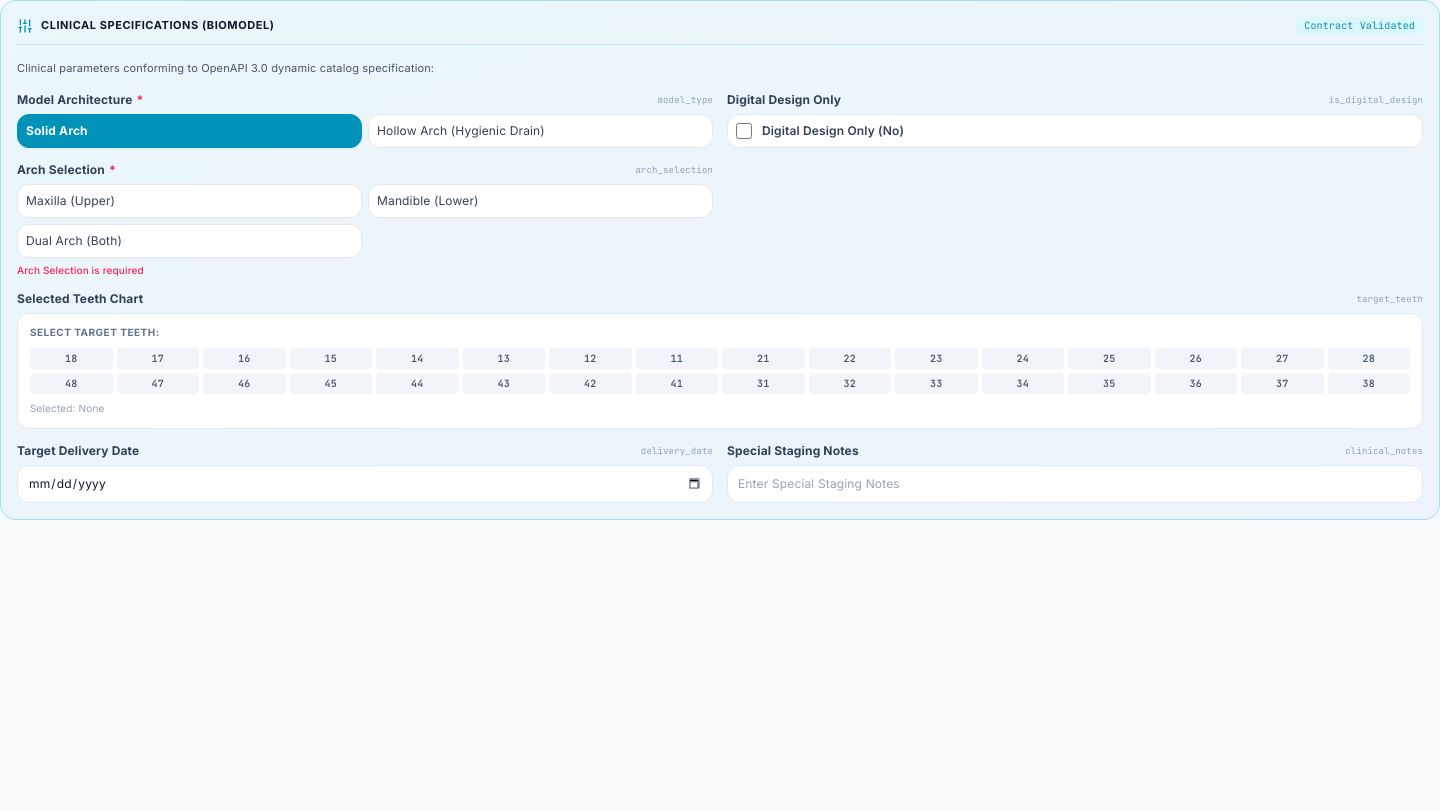
Test: FE-FORM-001: Typed Dynamic Catalog Form Renderer › 3. Conditional Visibility › shows wall_thickness_mm only when model_type is hollow
This screenshot has width=1440, height=810.
Check: the text "Wall Thickness (mm)" is not shown
Click Hollow Arch
Click the button "Hollow Arch (Hygienic Drain)": (540, 131) [368,114,713,148]
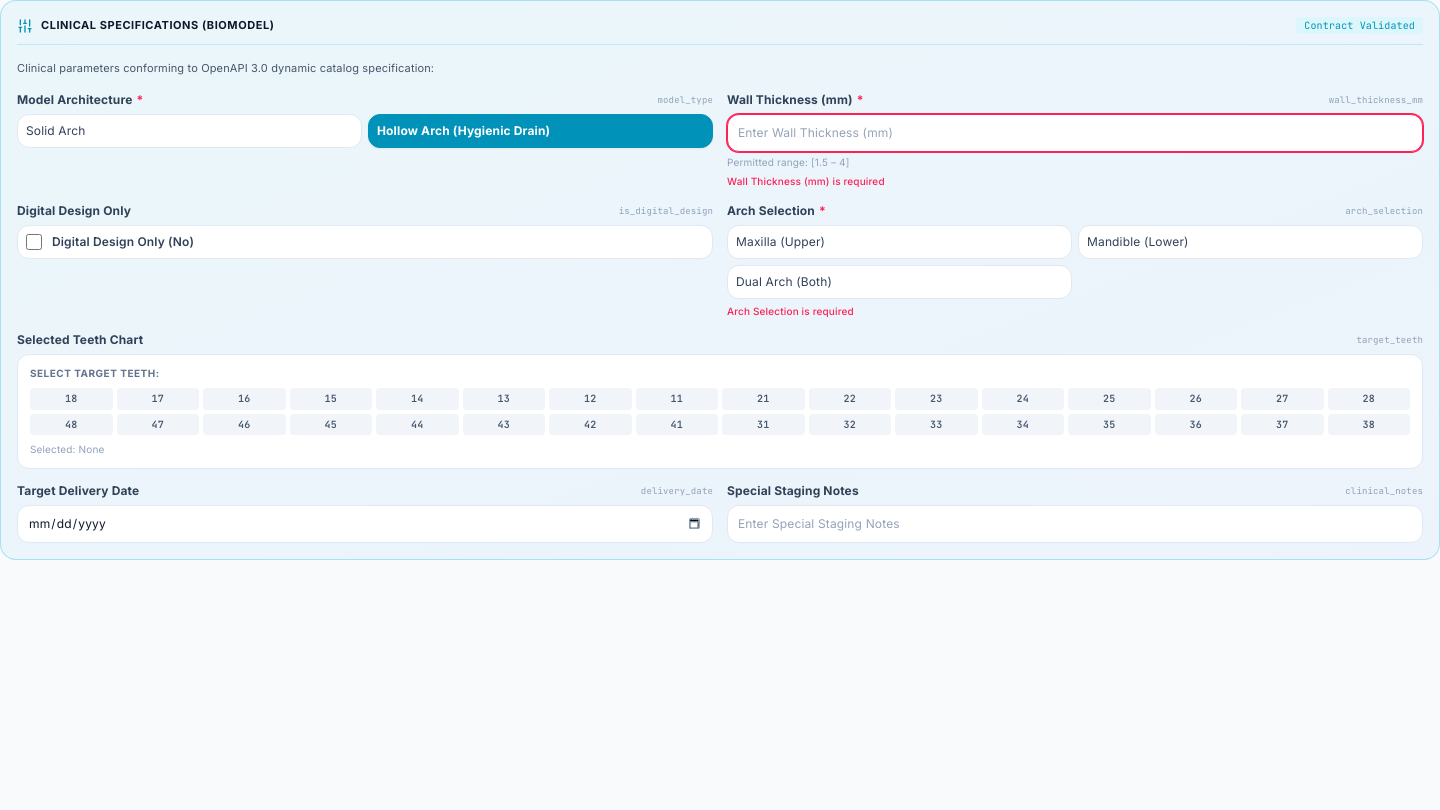
Check: the text "Wall Thickness (mm)" is shown, box [727,92,853,108]
